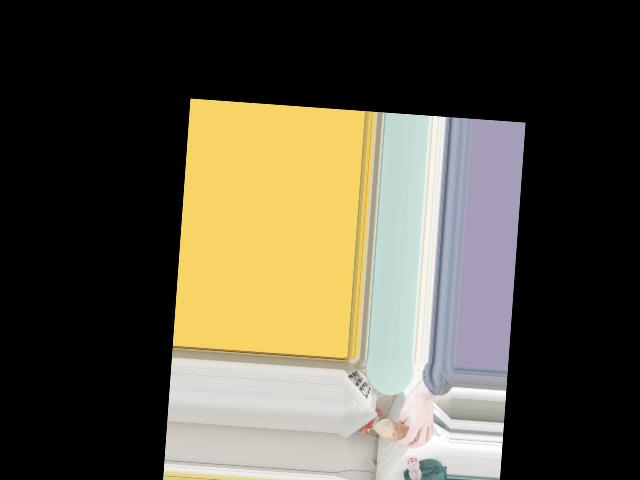sweet_potato: (374, 419, 423, 443)
